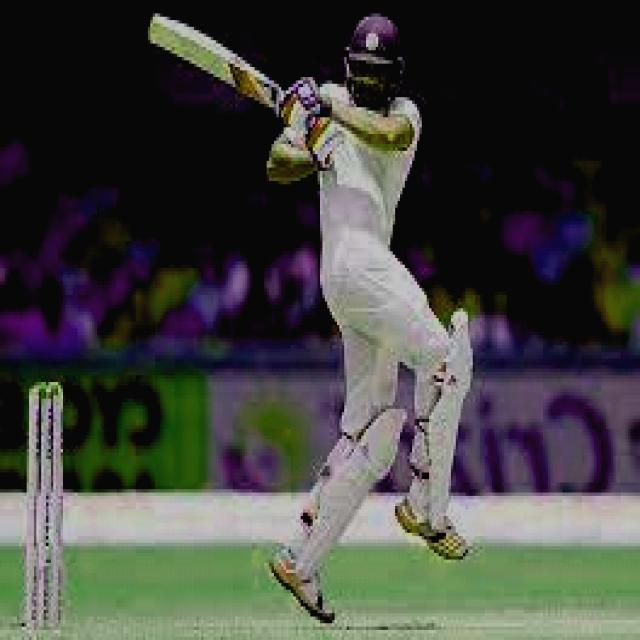toe: (150, 12, 176, 49)
